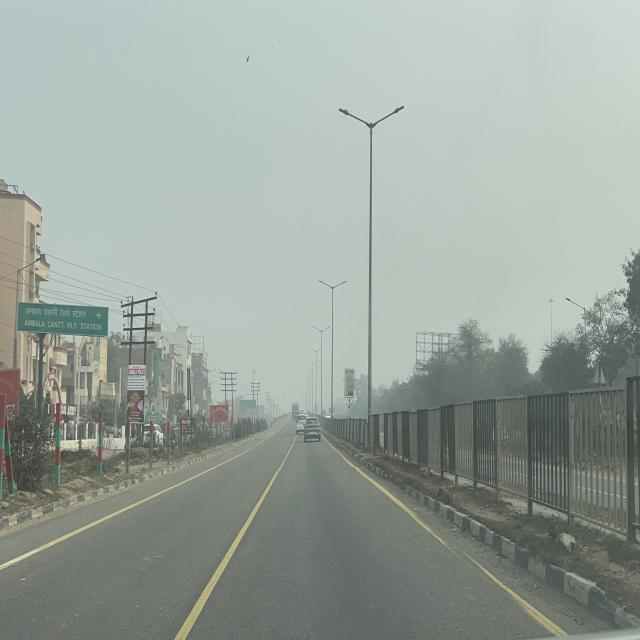GENERAL: (17, 302, 109, 336)
